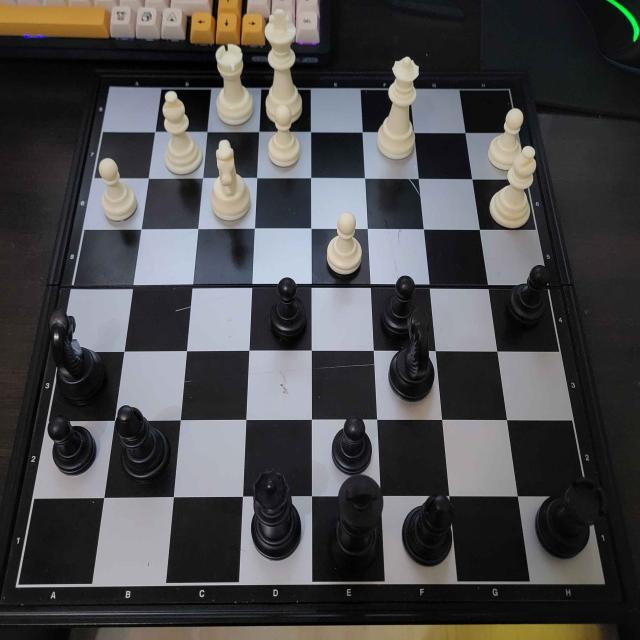black-bishop: (113, 403, 175, 487), (399, 489, 456, 572)
black-king: (332, 472, 384, 579)
black-knight: (47, 306, 110, 410), (387, 304, 435, 404)
black-pawn: (46, 410, 98, 480), (267, 274, 313, 346), (508, 262, 556, 327), (326, 413, 374, 476), (379, 274, 421, 337)
black-queen: (247, 465, 303, 568)
black-rook: (523, 473, 613, 563)
chess-board: (12, 73, 632, 615)
white-bishop: (483, 144, 539, 230), (159, 88, 205, 178)
white-king: (263, 8, 306, 125)
white-knight: (208, 138, 255, 224)
white-pawn: (321, 210, 367, 281), (95, 156, 138, 227), (486, 107, 526, 174), (266, 106, 302, 172)
white-queen: (376, 56, 422, 166)
white-rook: (213, 41, 255, 128)
